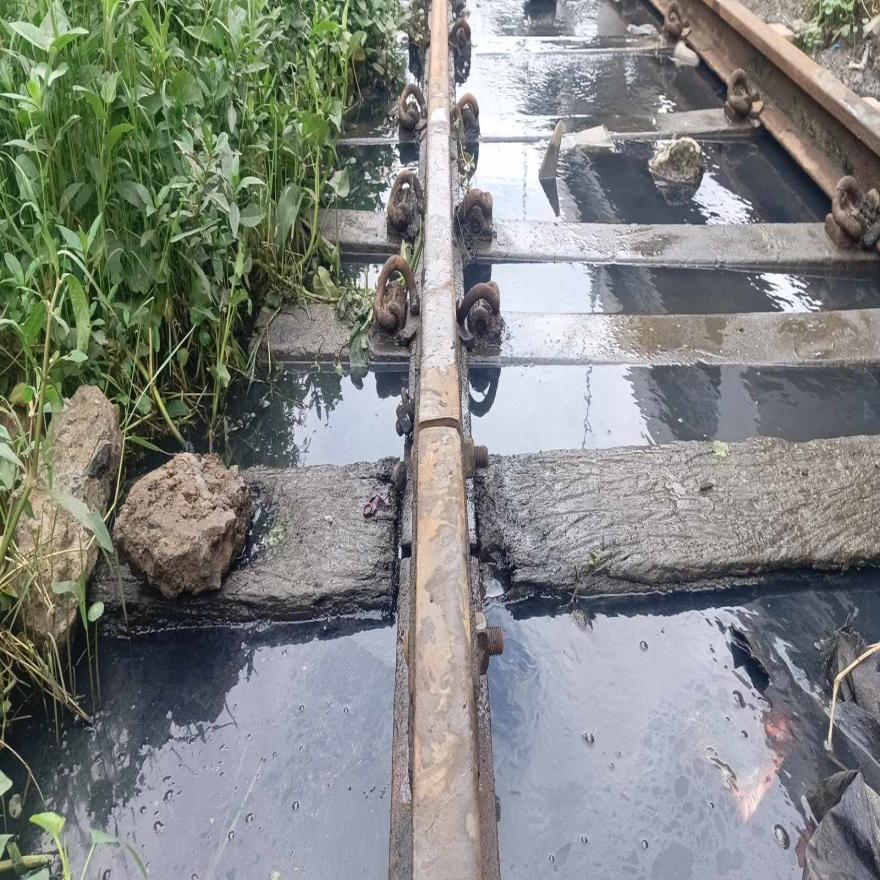railway-gap: (410, 357, 470, 485)
